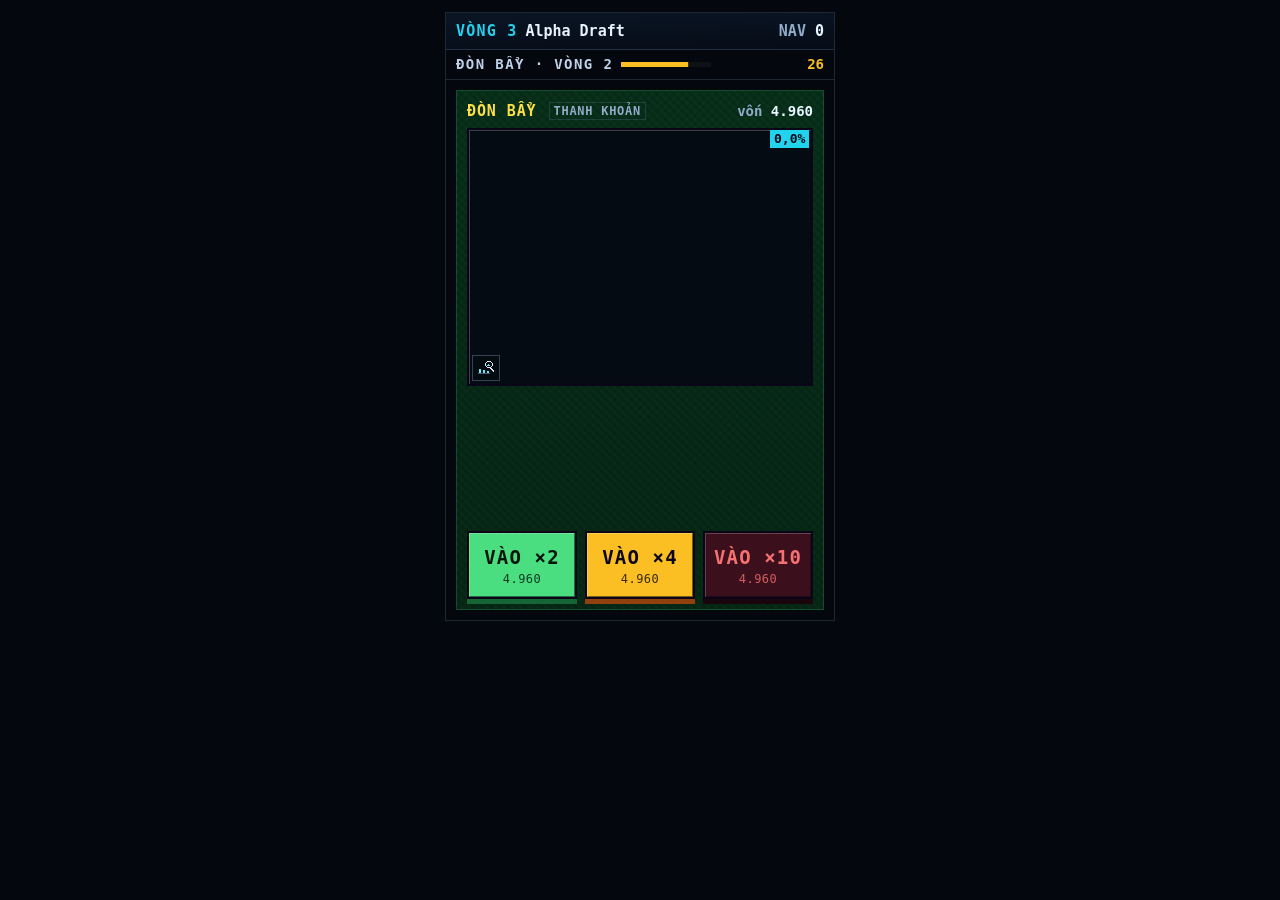
§V — D492: lõi Đòn Bẩy trong màn › vế ngược D507: không còn khoản nào để dồn (server `ban_het` 0) ⇒ BÁN HẾT tắt
Click the button "VÀO ×10 4.960": (758, 565) 703,531 -> 813,599
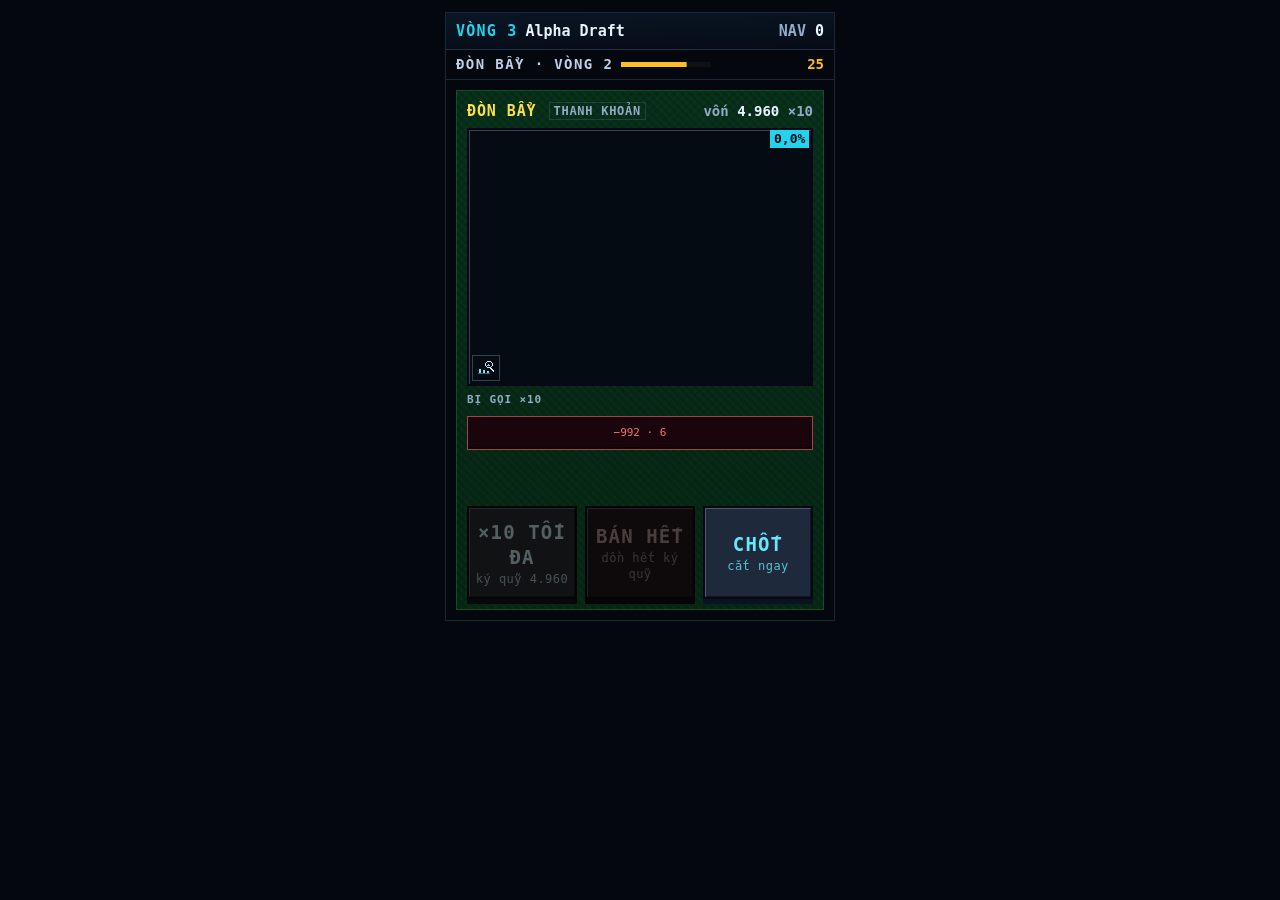
Check: the button "BÁN HẾT dồn hết ký quỹ" is disabled, box 585,506 -> 695,599
